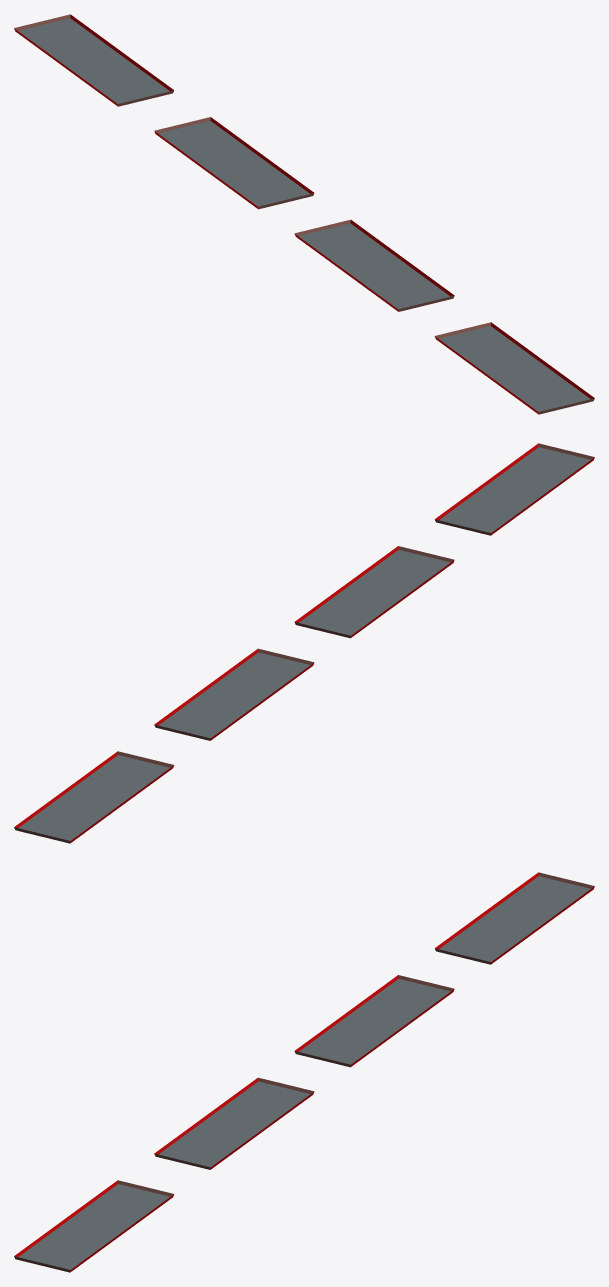
File: AdrienMansion_Livingroom_Skylight.fbx
The picture shows the model from 3 angles, top to bottom: view 1: azimuth 30°, elevation 25°; view 2: azimuth 150°, elevation 25°; view 3: azimuth 330°, elevation 25°; orthographic projection.
Visible parts, largest first — view 1: LivingroomSkylight; view 2: LivingroomSkylight; view 3: LivingroomSkylight.
Part boxes in pixels (left/top/right/bottom): LivingroomSkylight: left=14, top=14, right=594, bottom=414; LivingroomSkylight: left=14, top=443, right=594, bottom=843; LivingroomSkylight: left=14, top=872, right=594, bottom=1272.
Size of the model in its own units: 3493 by 190 by 56108.
